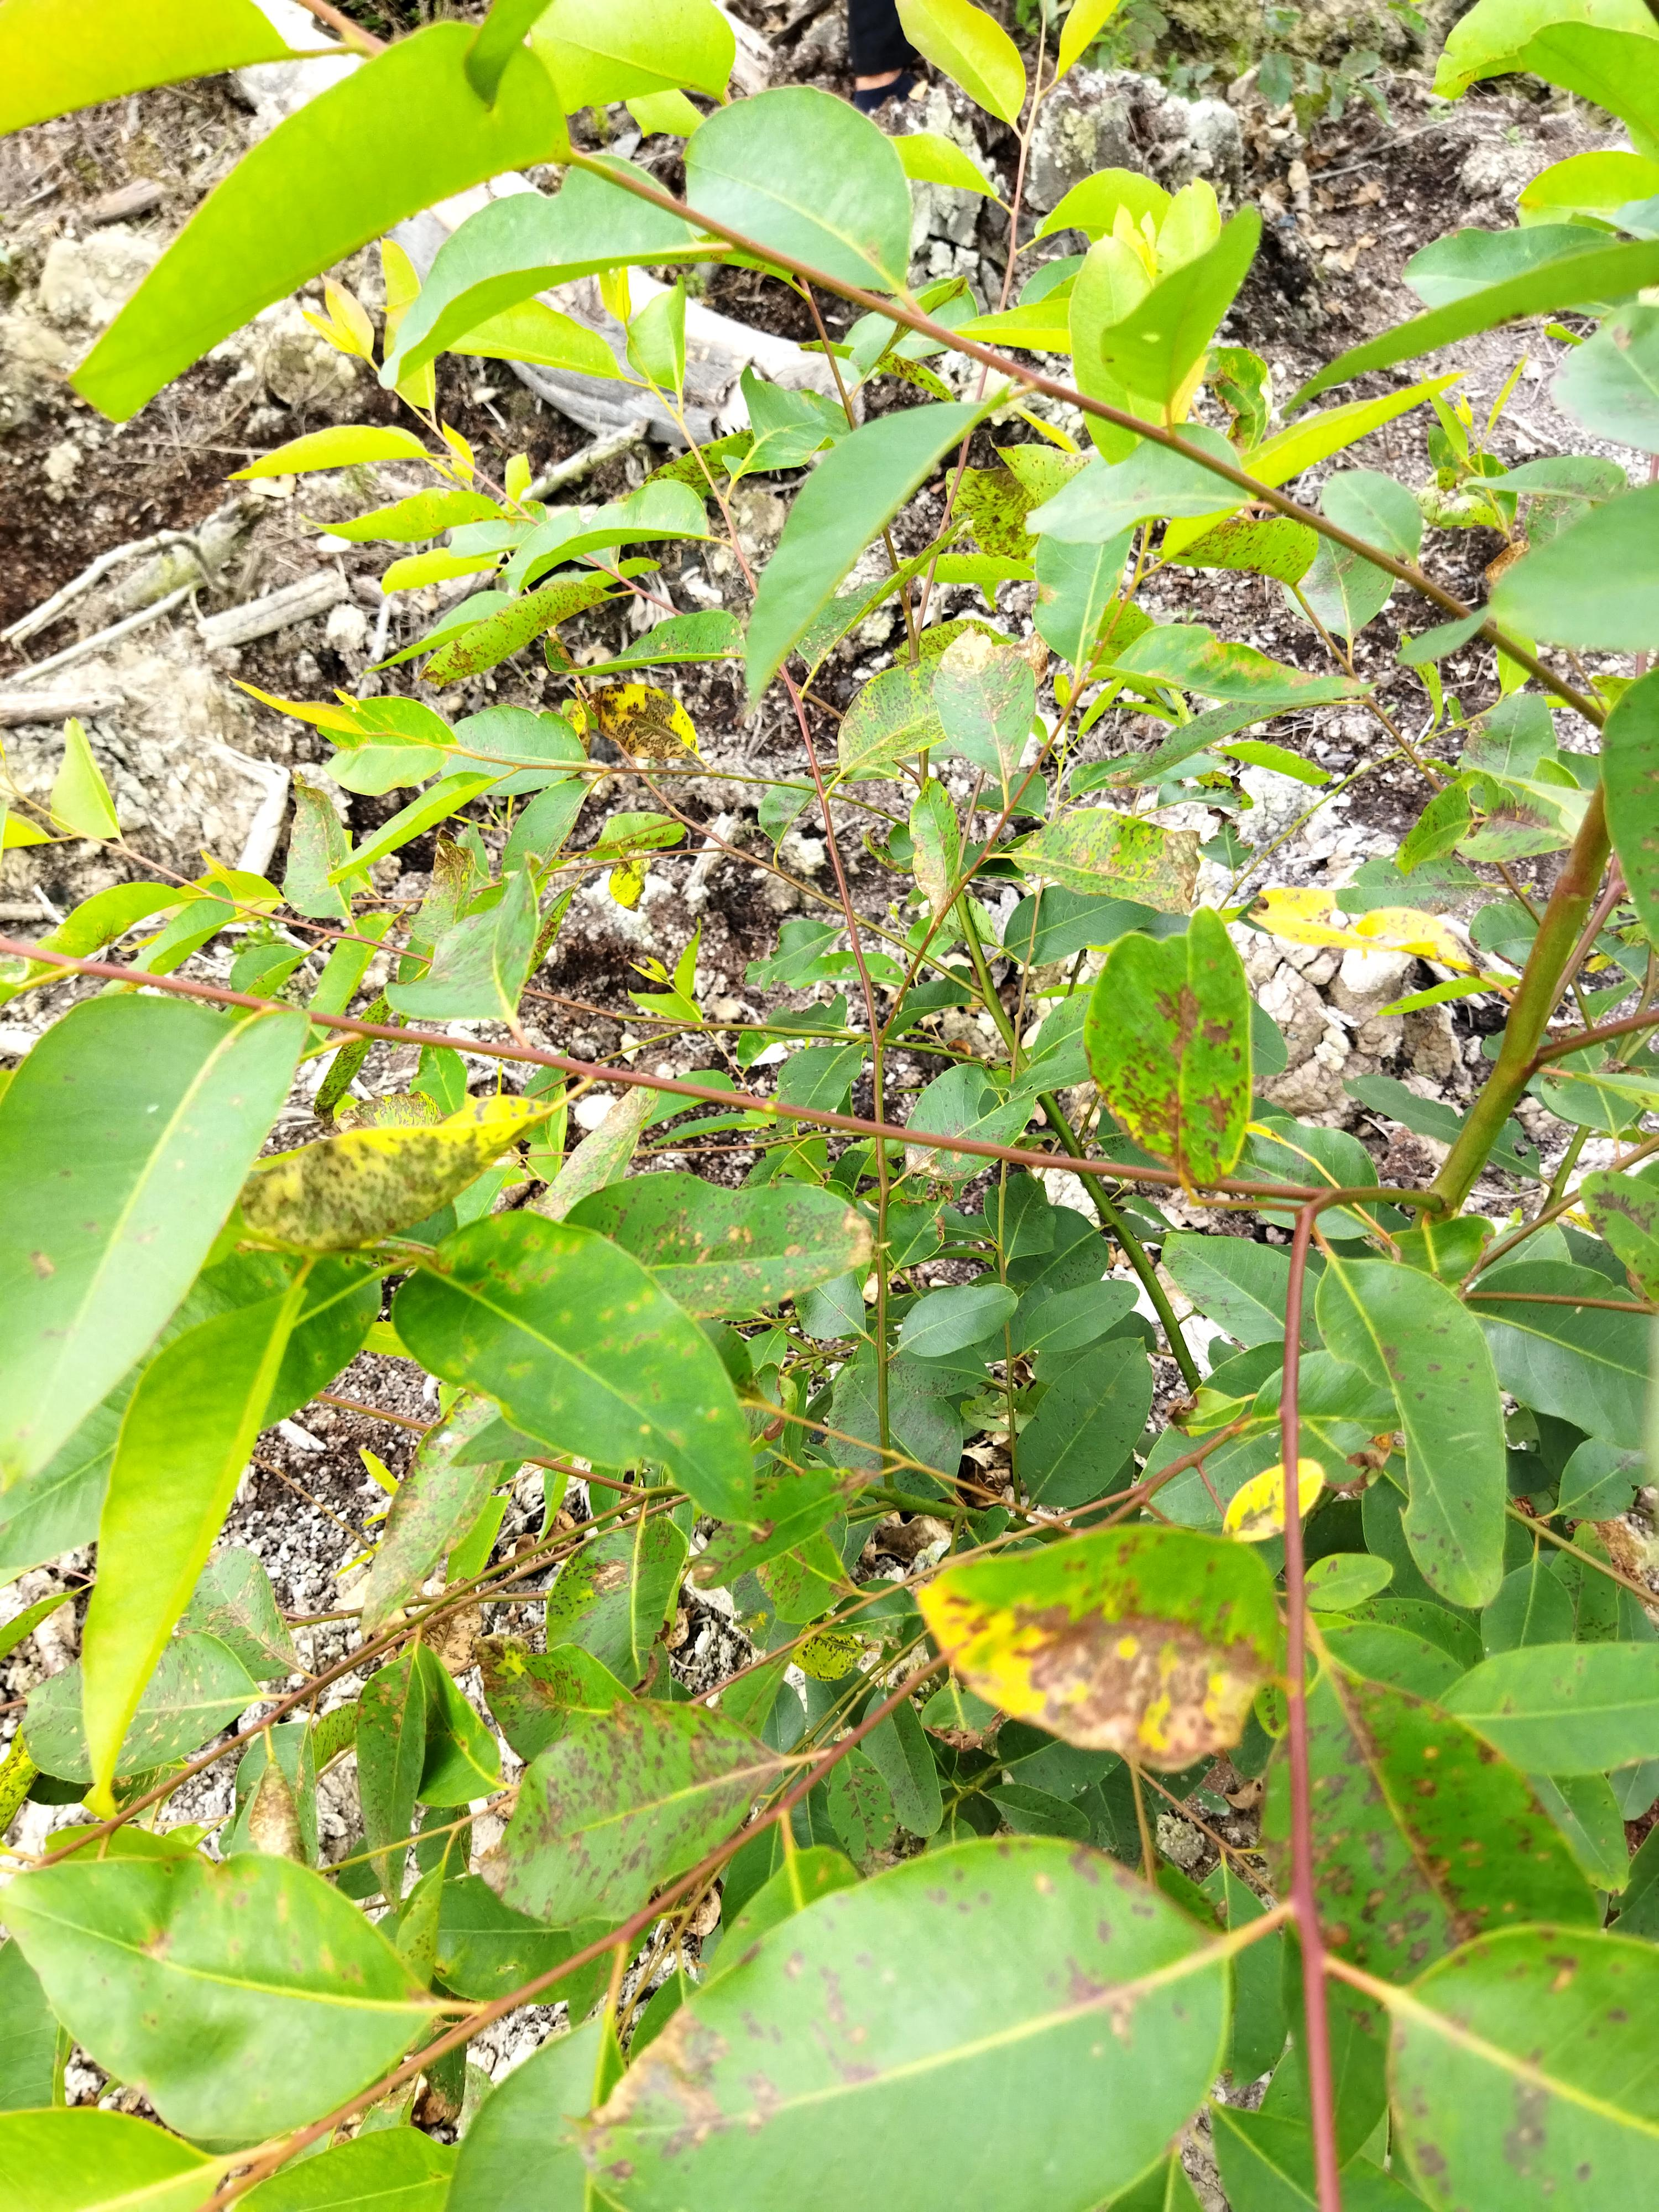Xanthomonas: (908, 1561, 1306, 1770), (1068, 908, 1288, 1208)
